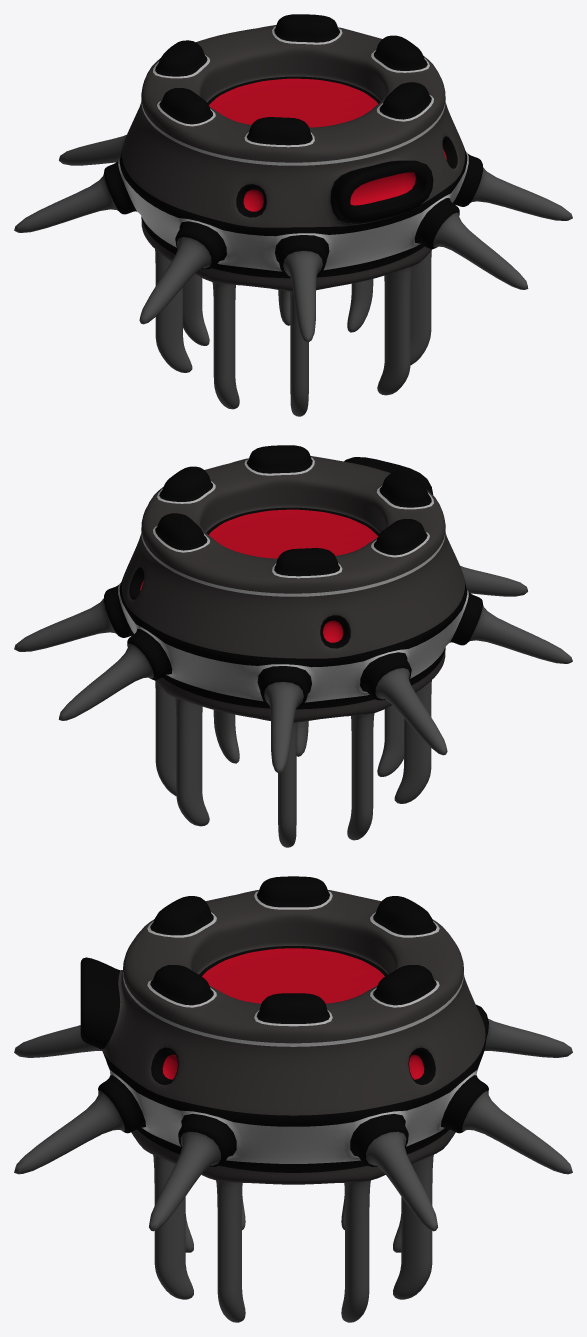
The model's file is Enemy_LesserSpikey.fbx.
3 renders of one model, top to bottom at view 1: azimuth 30°, elevation 25°; view 2: azimuth 150°, elevation 25°; view 3: azimuth 270°, elevation 25°, orthographic. The views are drawn at different scales.
Visible parts, largest first — view 1: Bomber_Ship; view 2: Bomber_Ship; view 3: Bomber_Ship.
Boxes of the visible parts, x1,y1,x2,y2 form: Bomber_Ship: [14, 14, 572, 416]; Bomber_Ship: [14, 445, 572, 847]; Bomber_Ship: [14, 876, 572, 1322].
Bounding box in the file's own units: 161 × 108 × 161.
